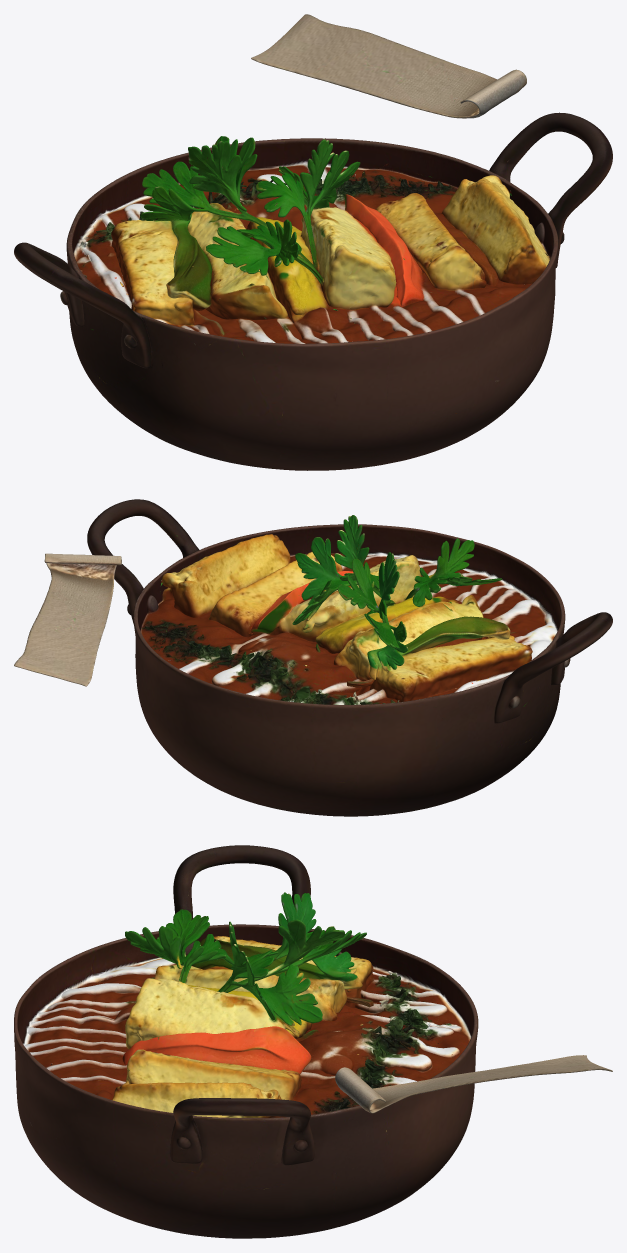
File: Paneer_Comfort_Curry-v1.glb
3 renders of one model, top to bottom at view 1: azimuth 30°, elevation 25°; view 2: azimuth 150°, elevation 25°; view 3: azimuth 270°, elevation 25°, orthographic. The views are drawn at different scales.
Visible parts, largest first — view 1: mesh_node; view 2: mesh_node; view 3: mesh_node.
Boxes of the visible parts, left/top/right/bottom form: mesh_node: left=14, top=14, right=612, bottom=470; mesh_node: left=14, top=499, right=612, bottom=816; mesh_node: left=14, top=845, right=612, bottom=1238.
Size of the model in its own units: 1.9 by 0.8732 by 1.85.
Materials: 1 (1 with a texture image).
